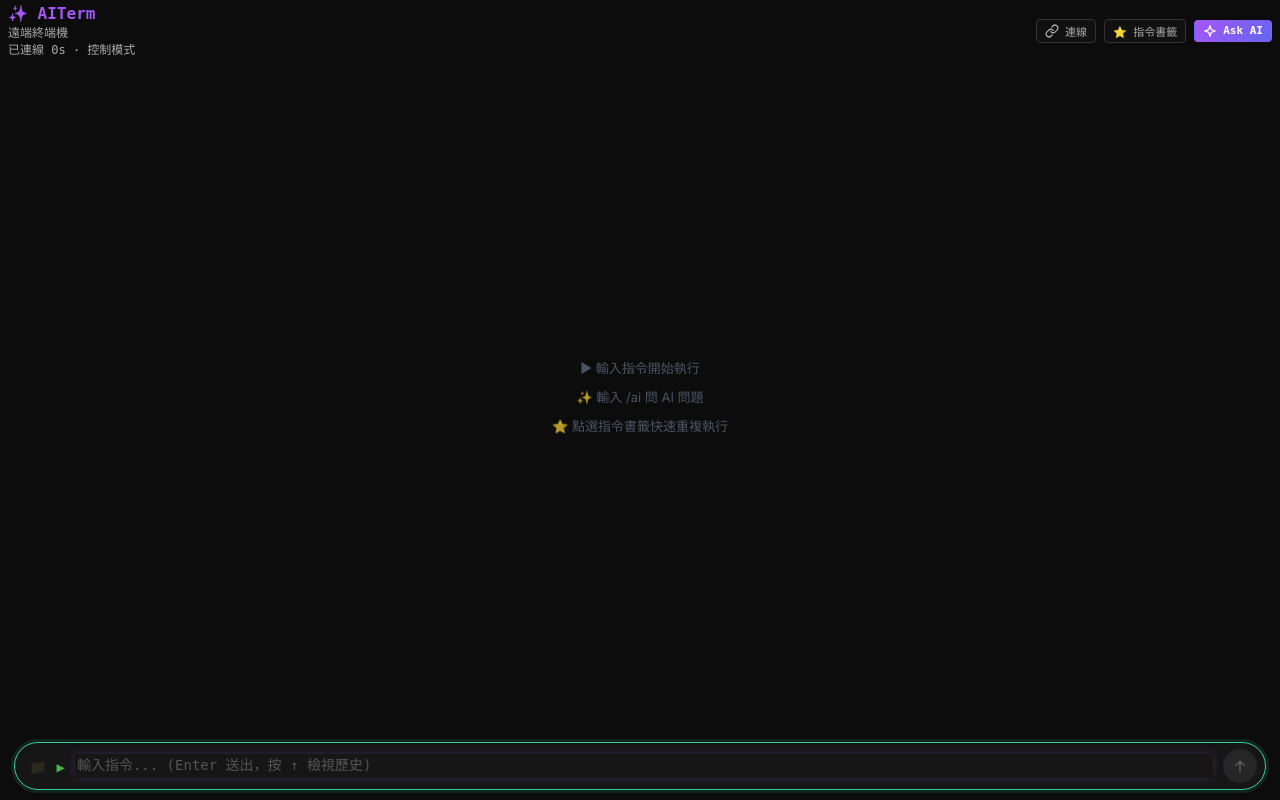
Test case: RemoteTerminalView：行內歷史建議的接受鍵 › 設定 right：→ 補上歷史建議，Tab 不攔
In the text box with placeholder "輸入指令... (Enter 送出，按 ↑ 檢視歷史)": (644, 766) [75, 754, 1213, 778], type "echo he"
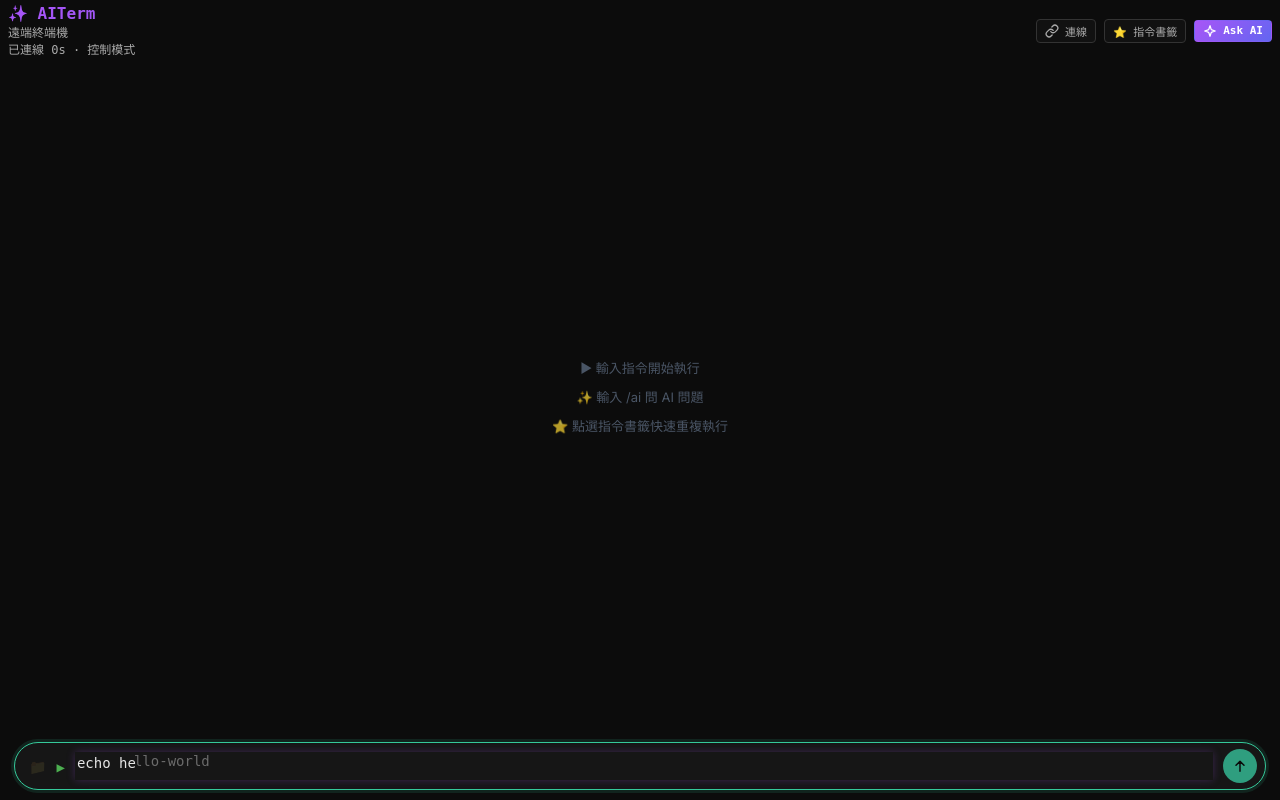
Check: the text with class "warp-input-ghost-suggestion" reads "llo-world", box [134, 753, 210, 769]
Press Tab in the text box with placeholder "輸入指令... (Enter 送出，按 ↑ 檢視歷史)", box [75, 752, 1213, 780]
Press ArrowRight in the text box with placeholder "輸入指令... (Enter 送出，按 ↑ 檢視歷史)", box [75, 752, 1213, 780]
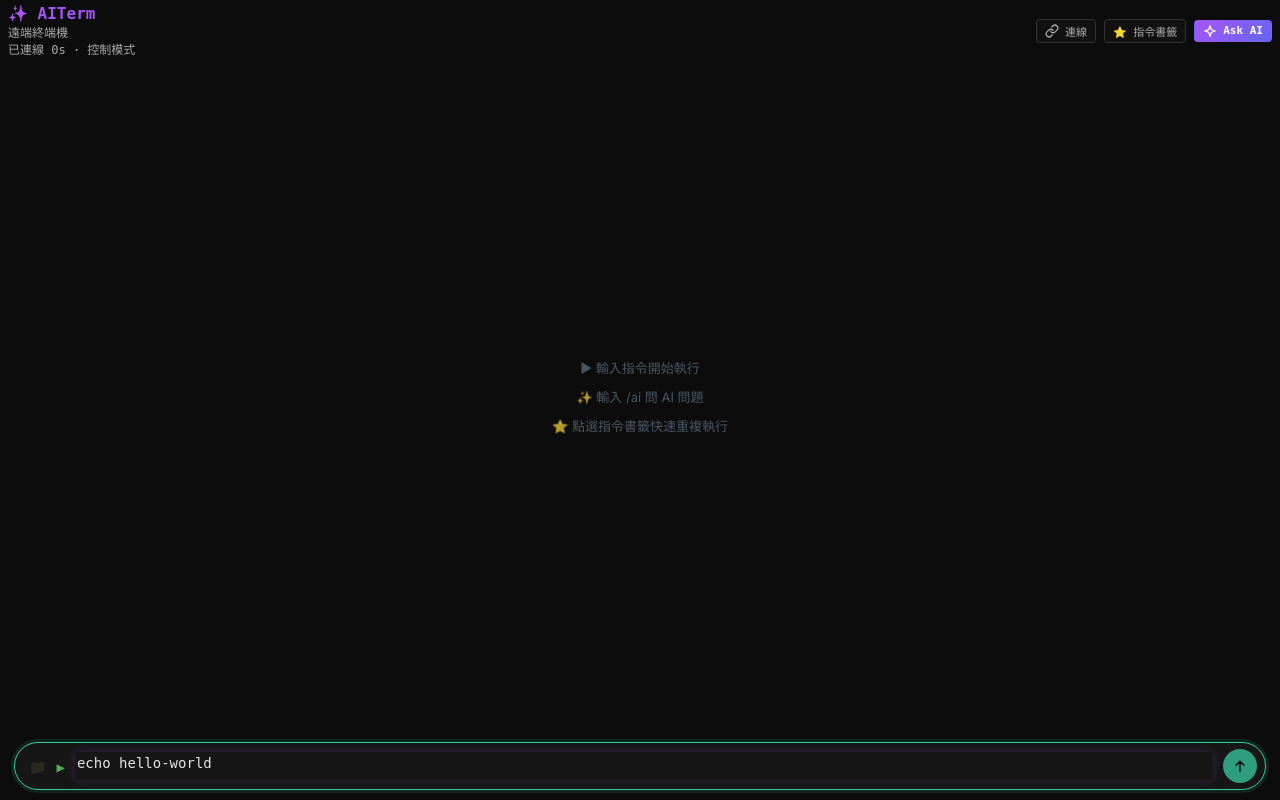
Check: the text box with placeholder "輸入指令... (Enter 送出，按 ↑ 檢視歷史)" holds "echo hello-world", box [75, 752, 1213, 780]
